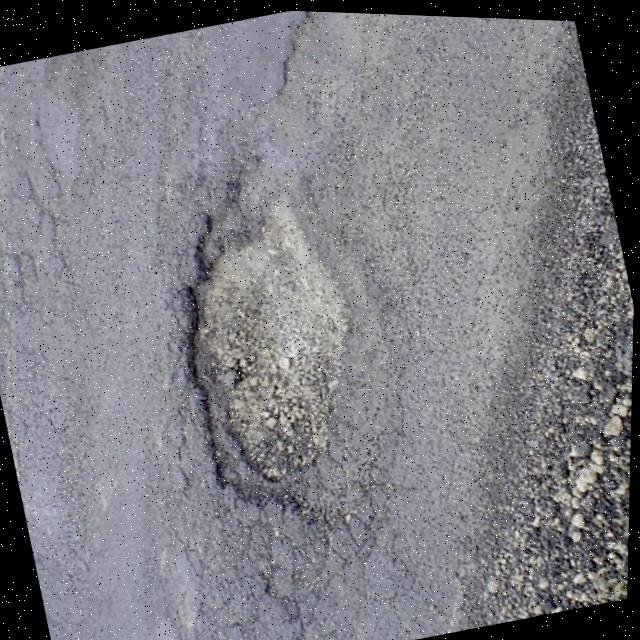Pothole: (137, 137, 427, 530)
